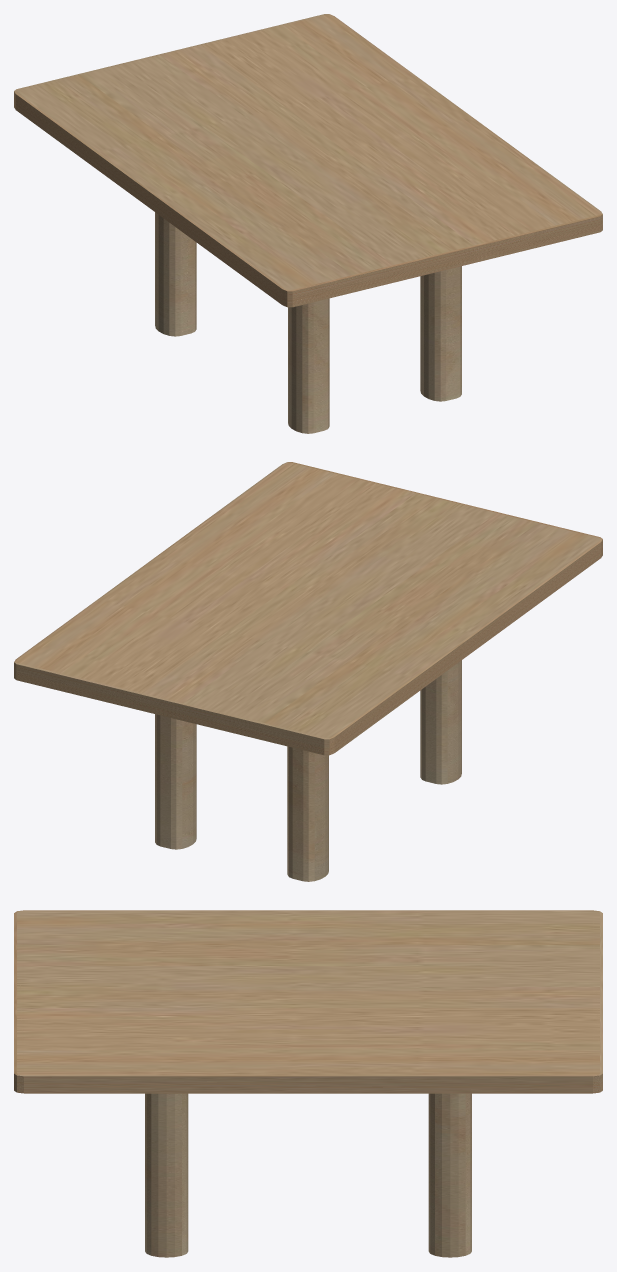
File: BigTable.fbx
3 renders of one model, top to bottom at view 1: azimuth 30°, elevation 25°; view 2: azimuth 150°, elevation 25°; view 3: azimuth 270°, elevation 25°, orthographic. The views are drawn at different scales.
Visible parts, largest first — view 1: BigTable; view 2: BigTable; view 3: BigTable.
Part boxes in pixels (x1,y1,x2,y2): BigTable: (14,14,602,433); BigTable: (14,462,602,881); BigTable: (14,910,602,1257).
Bounding box in the file's own units: 400 × 249 × 600.
